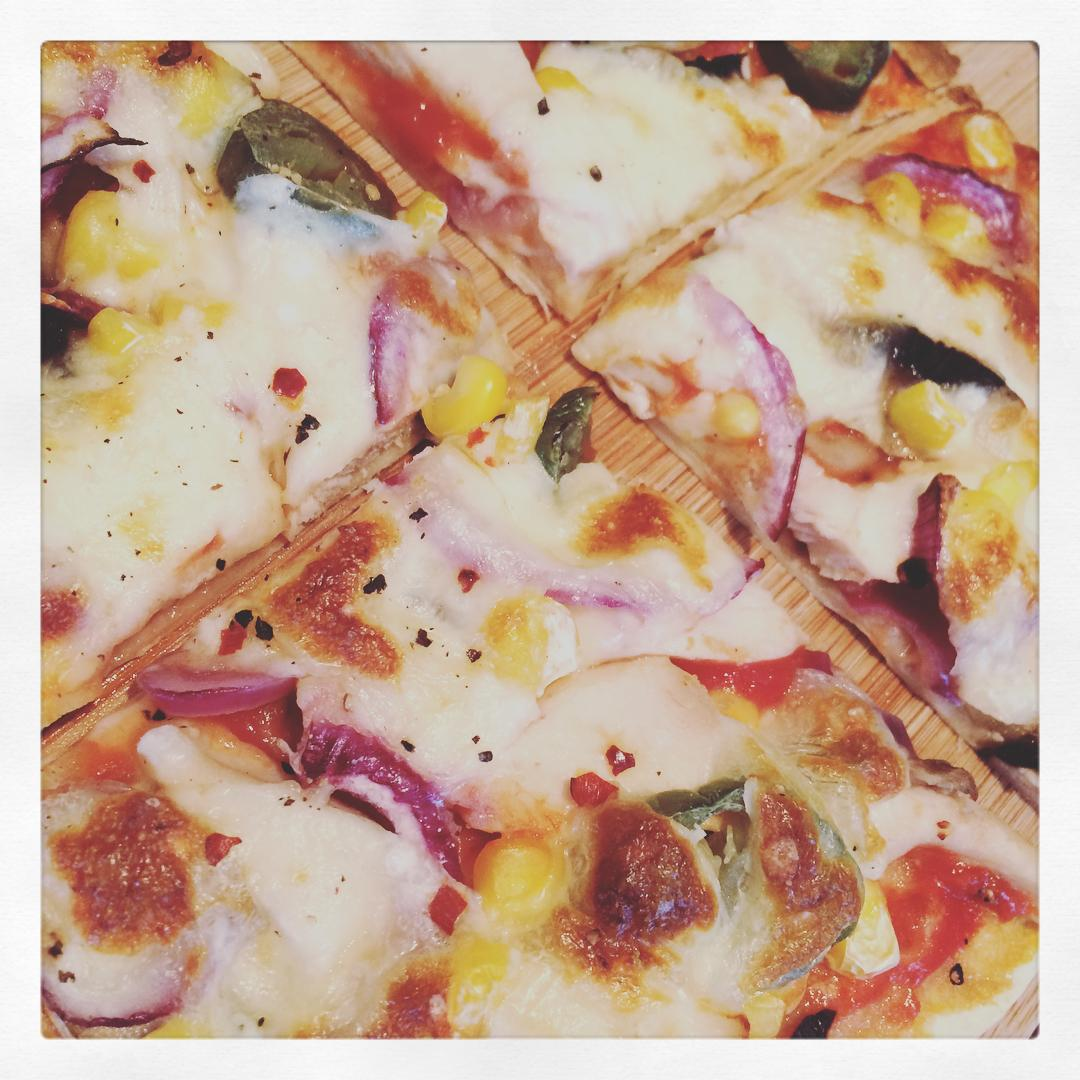Basil: (241, 83, 399, 225), (546, 383, 595, 483)
Cheese: (51, 765, 293, 995), (128, 246, 291, 523), (510, 833, 691, 1027), (436, 513, 575, 729), (65, 397, 209, 573), (523, 101, 685, 211), (596, 513, 735, 639)
Corn: (423, 363, 501, 453), (480, 826, 565, 899), (66, 190, 117, 291), (446, 923, 507, 1003), (483, 603, 547, 679), (170, 63, 235, 137), (886, 383, 951, 453), (866, 176, 925, 237), (955, 116, 1019, 171), (919, 193, 970, 250), (716, 388, 767, 437), (405, 190, 451, 243)
Onion: (700, 263, 809, 537), (303, 725, 479, 873), (136, 646, 305, 717), (875, 153, 1019, 217), (366, 279, 409, 428)
Peppers: (760, 45, 893, 103), (658, 781, 751, 857)
Pizza: (51, 55, 1031, 1027)
